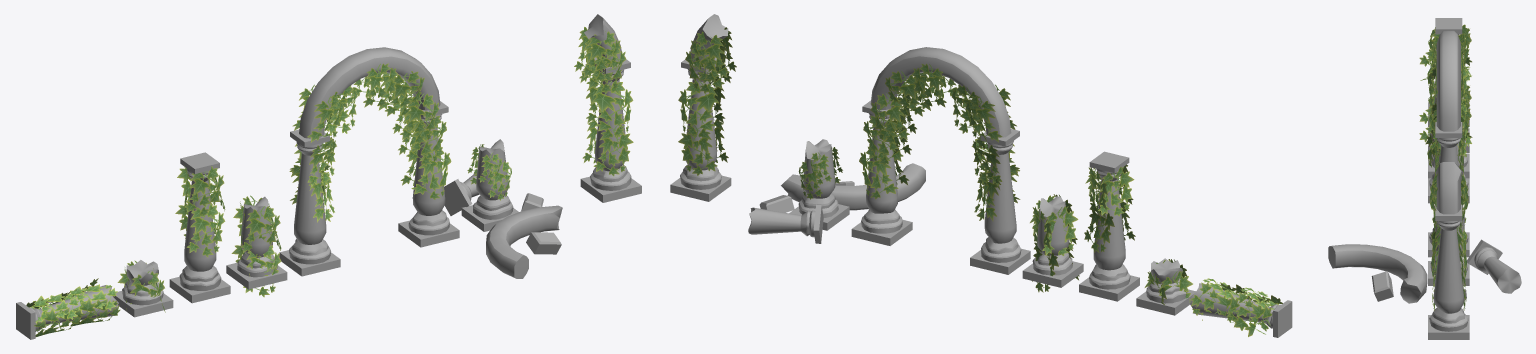
Rendered from Rhett's Asset Pack 4 Overgrown.fbx.
3 renders of one model, left to right at view 1: azimuth 30°, elevation 25°; view 2: azimuth 150°, elevation 25°; view 3: azimuth 270°, elevation 25°, orthographic. The views are drawn at different scales.
Parts seen in each view (by area): view 1: Arch, Overgrown_Arch_Foilage, Overgrown_Broken_Arch_Foilage, Normal_Pillar, Arch_Rubble, Arch_Rubble3, Overgrown_Broken_Pillar_Foilage1, Overgrown_Pillar_Foilage, Arch_Rubble1, Broken_Pillar_Taller, Overgrown_Broken_Pillar_Foilage, Broken_Pillar (+4 smaller); view 2: Arch, Overgrown_Arch_Foilage, Overgrown_Broken_Arch_Foilage, Normal_Pillar, Arch_Rubble, Broken_Pillar_Taller, Overgrown_Pillar_Foilage, Overgrown_Broken_Pillar_Foilage1, Arch_Rubble1, Arch_Rubble3, Arch_Rubble2, Broken_Pillar (+3 smaller); view 3: Arch_Rubble, Arch, Arch_Rubble3, Arch_Rubble2, Overgrown_Arch_Foilage, Overgrown_Broken_Arch_Foilage, Overgrown_Pillar_Foilage, Normal_Pillar, Arch_Rubble5, Arch_Rubble1, Overgrown_Broken_Pillar_Foilage, Overgrown_Pillar_Foilage2 (+2 smaller).
Part boxes in pixels (x1,y1,x2,y2): Arch: (279, 47, 459, 276); Overgrown_Arch_Foilage: (289, 63, 451, 222); Overgrown_Broken_Arch_Foilage: (467, 27, 633, 200); Normal_Pillar: (169, 152, 230, 303); Arch_Rubble: (580, 14, 641, 202); Arch_Rubble3: (486, 205, 562, 278); Overgrown_Broken_Pillar_Foilage1: (26, 278, 120, 336); Overgrown_Pillar_Foilage: (175, 165, 225, 257); Arch_Rubble1: (461, 139, 518, 231); Broken_Pillar_Taller: (226, 196, 287, 289); Overgrown_Broken_Pillar_Foilage: (231, 195, 281, 297); Broken_Pillar: (113, 260, 173, 317); Arch: (851, 47, 1030, 274); Overgrown_Arch_Foilage: (859, 63, 1020, 221); Overgrown_Broken_Arch_Foilage: (678, 27, 842, 199); Normal_Pillar: (1079, 151, 1139, 301); Arch_Rubble: (670, 14, 731, 201); Broken_Pillar_Taller: (1022, 196, 1083, 287); Overgrown_Pillar_Foilage: (1084, 164, 1135, 252); Overgrown_Broken_Pillar_Foilage1: (1190, 278, 1282, 336); Arch_Rubble1: (789, 139, 849, 230); Arch_Rubble3: (781, 163, 925, 210); Arch_Rubble2: (748, 204, 823, 243); Broken_Pillar: (1136, 258, 1195, 315); Arch_Rubble: (1428, 162, 1469, 339); Arch: (1428, 30, 1469, 257); Arch_Rubble3: (1328, 244, 1427, 303); Arch_Rubble2: (1467, 239, 1521, 293); Overgrown_Arch_Foilage: (1425, 40, 1471, 209); Overgrown_Broken_Arch_Foilage: (1430, 173, 1468, 310); Overgrown_Pillar_Foilage: (1419, 24, 1471, 105); Normal_Pillar: (1428, 18, 1469, 153); Arch_Rubble5: (1371, 271, 1393, 301); Arch_Rubble1: (1428, 216, 1469, 285); Overgrown_Broken_Pillar_Foilage: (1419, 100, 1472, 167); Overgrown_Pillar_Foilage2: (1419, 85, 1471, 123).
Bounding box in the file's own units: 1741 × 585 × 516.
